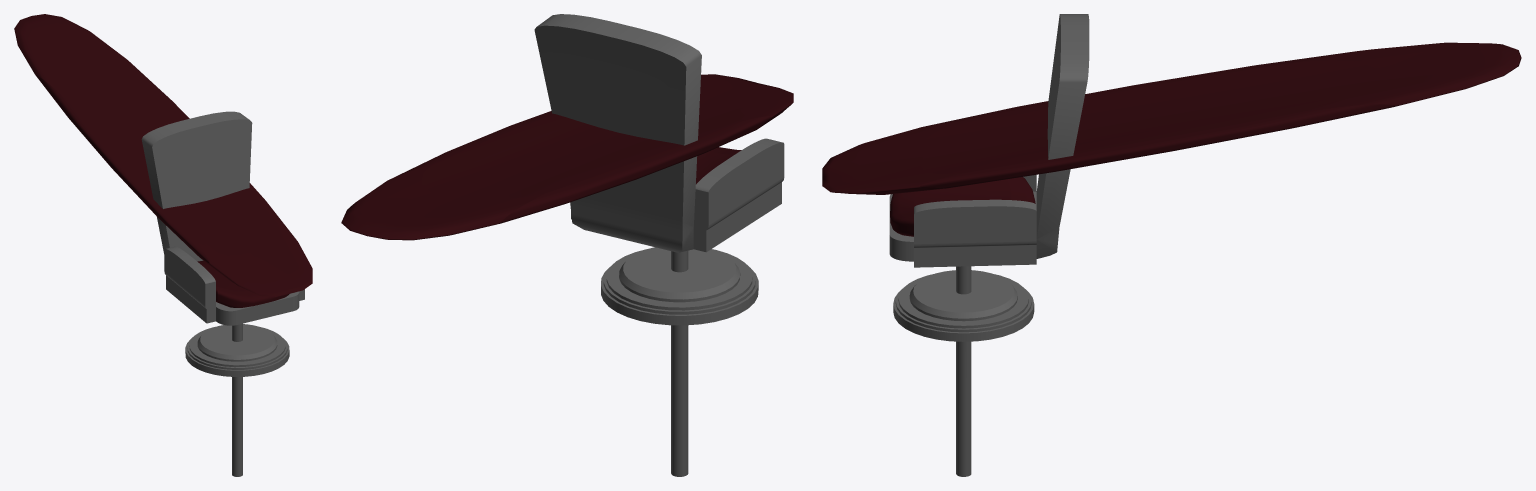
The model's file is Sedia.fbx.
3 views of the same model, side by side, from view 1: azimuth 30°, elevation 25°; view 2: azimuth 150°, elevation 25°; view 3: azimuth 270°, elevation 25° (orthographic). The views are drawn at different scales.
Parts seen in each view (by area): view 1: Cube.003, Cube, Sedia, Cylinder.001, Cube.002; view 2: Cube, Cube.003, Sedia, Cylinder.001, Cube.002; view 3: Cube.003, Cube, Sedia, Cube.002, Cylinder.001.
Boxes of the visible parts, x1,y1,x2,y2 form: Cube.003: [14, 14, 312, 296]; Cube: [141, 111, 304, 325]; Sedia: [185, 324, 289, 376]; Cylinder.001: [232, 323, 242, 476]; Cube.002: [197, 260, 289, 307]; Cube: [534, 14, 784, 252]; Cube.003: [341, 74, 793, 240]; Sedia: [601, 247, 758, 325]; Cylinder.001: [671, 250, 688, 476]; Cube.002: [696, 147, 741, 184]; Cube.003: [822, 42, 1521, 194]; Cube: [889, 14, 1089, 267]; Sedia: [893, 270, 1034, 341]; Cube.002: [890, 177, 1035, 236]; Cylinder.001: [956, 266, 971, 476].
Size of the model in its own units: 303 by 921 by 1341.
